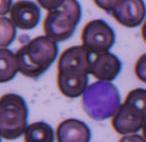L: (82, 79, 120, 120)
